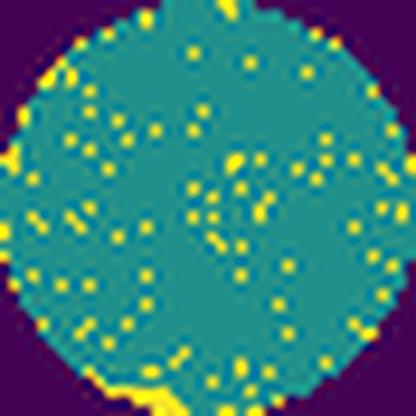Edge-Loc: (78, 360, 190, 416)
